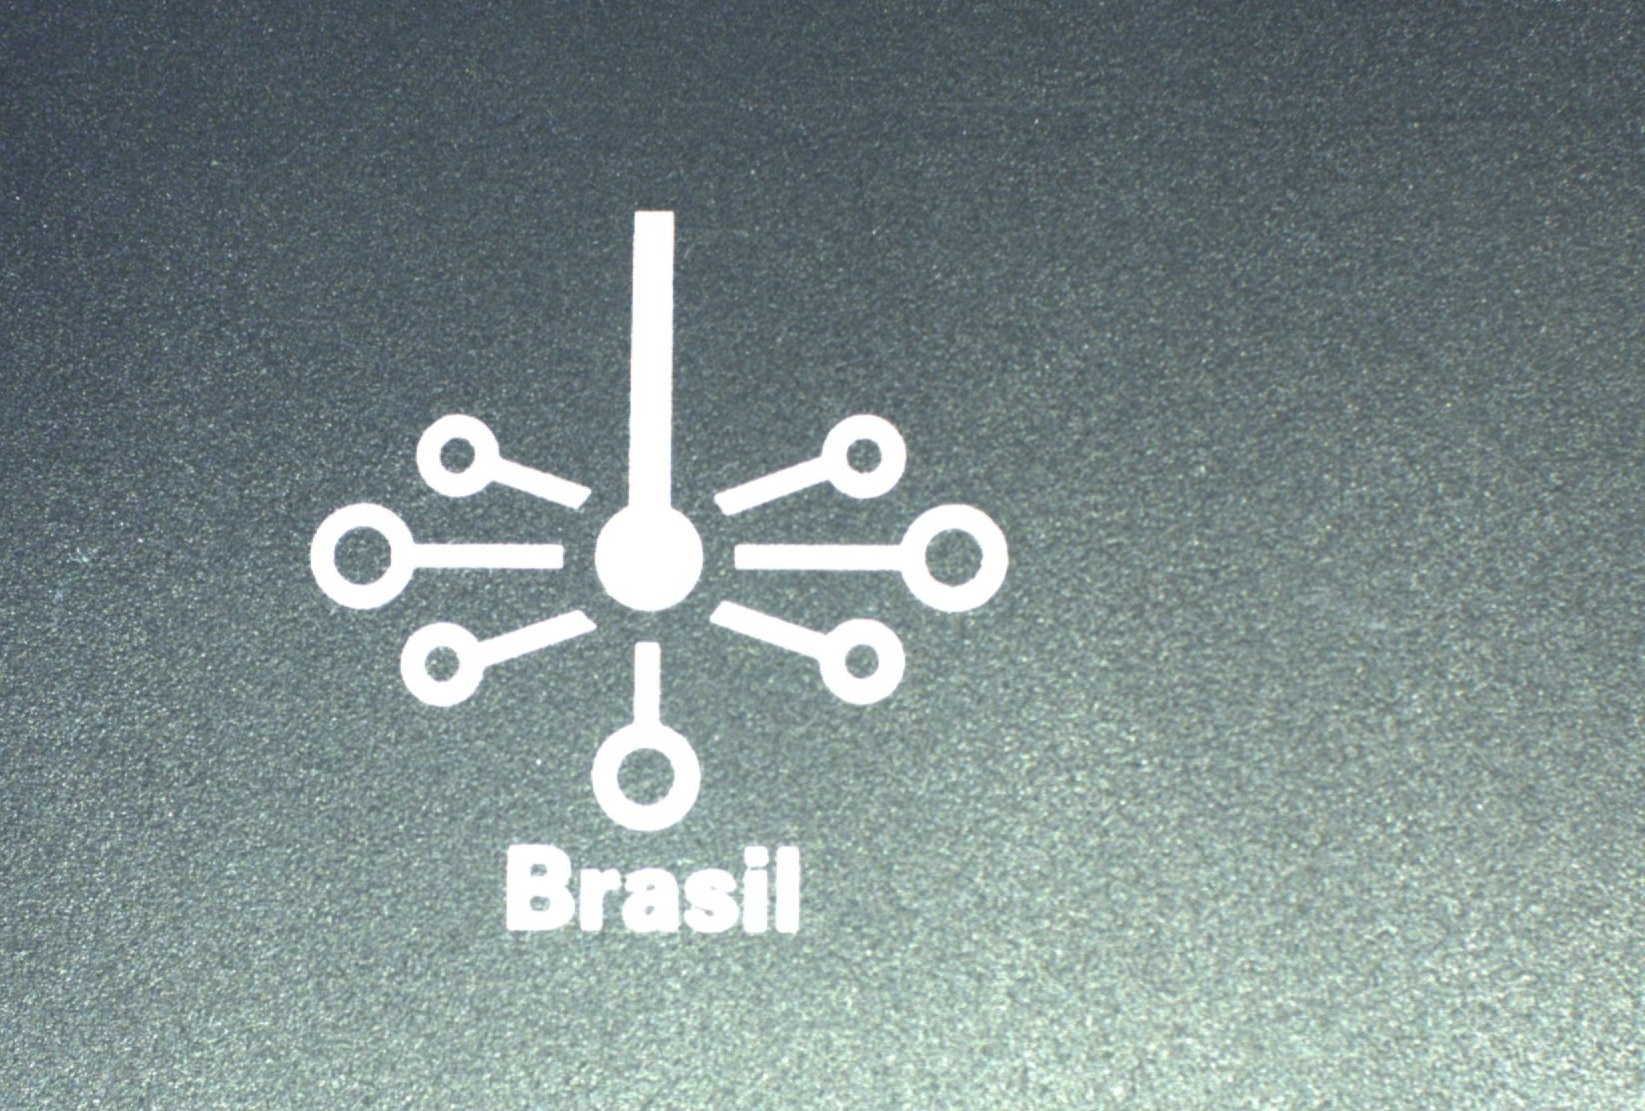BO_Brsail: (295, 195, 1033, 973)
